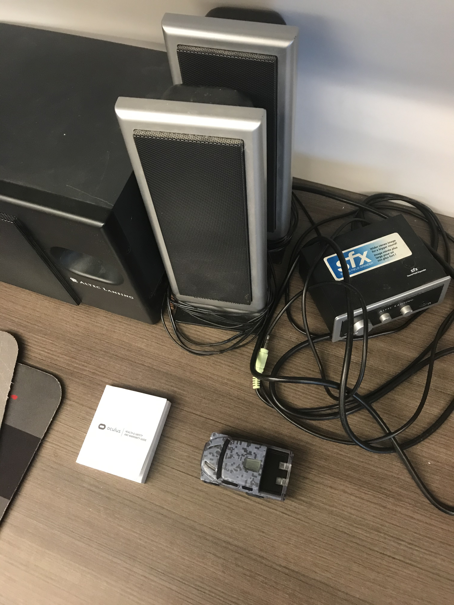MXT: (197, 429, 297, 502)
